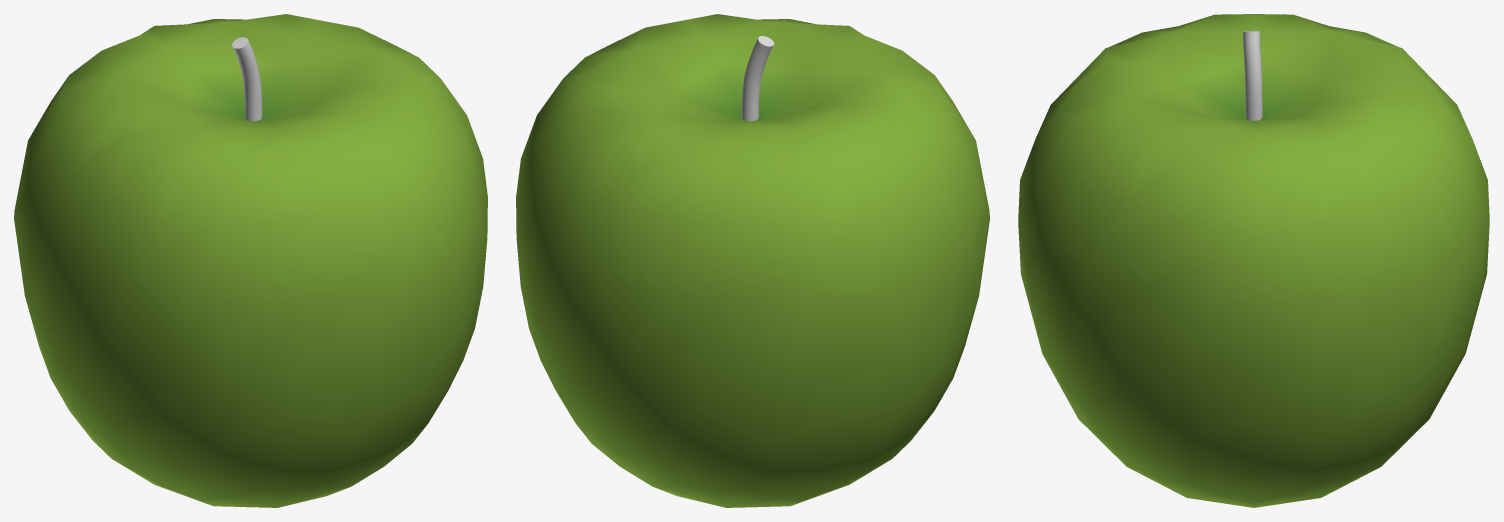
File: green_apple.dae
3 renders of one model, left to right at view 1: azimuth 30°, elevation 25°; view 2: azimuth 150°, elevation 25°; view 3: azimuth 270°, elevation 25°, orthographic.
Visible parts, largest first — view 1: Cube, Stem; view 2: Cube, Stem; view 3: Cube, Stem.
Part boxes in pixels (left/top/right/bottom): Cube: left=14, top=14, right=487, bottom=507; Stem: left=232, top=37, right=262, bottom=121; Cube: left=516, top=14, right=989, bottom=507; Stem: left=741, top=36, right=773, bottom=121; Cube: left=1018, top=14, right=1489, bottom=507; Stem: left=1243, top=30, right=1262, bottom=120.
Bounding box in the file's own units: 1.74 × 1.73 × 1.75.
